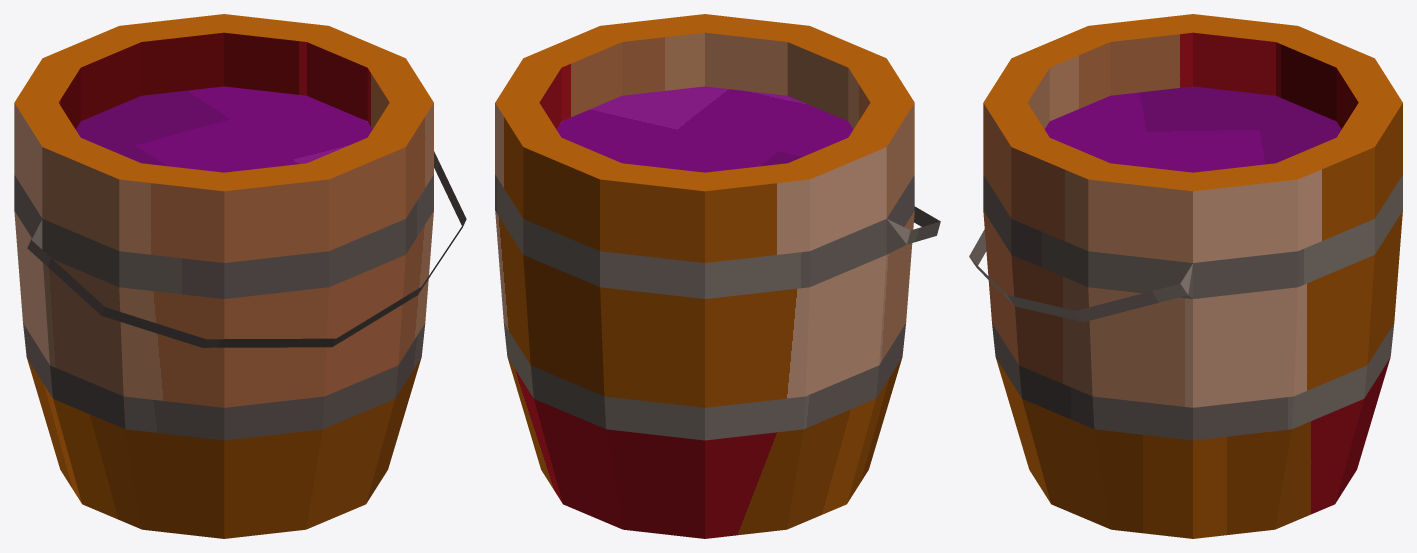
File: bucket_810x03.gltf
3 renders of one model, left to right at view 1: azimuth 30°, elevation 25°; view 2: azimuth 150°, elevation 25°; view 3: azimuth 270°, elevation 25°, orthographic.
Visible parts, largest first — view 1: bucket_810x03; view 2: bucket_810x03; view 3: bucket_810x03.
Part boxes in pixels (bbox=[...]): bucket_810x03: bbox=[14, 14, 466, 538]; bucket_810x03: bbox=[495, 14, 940, 538]; bucket_810x03: bbox=[969, 14, 1402, 538].
Bounding box in the file's own units: 0.8779 × 0.772 × 0.8272.
Materials: 1 (1 with a texture image).
